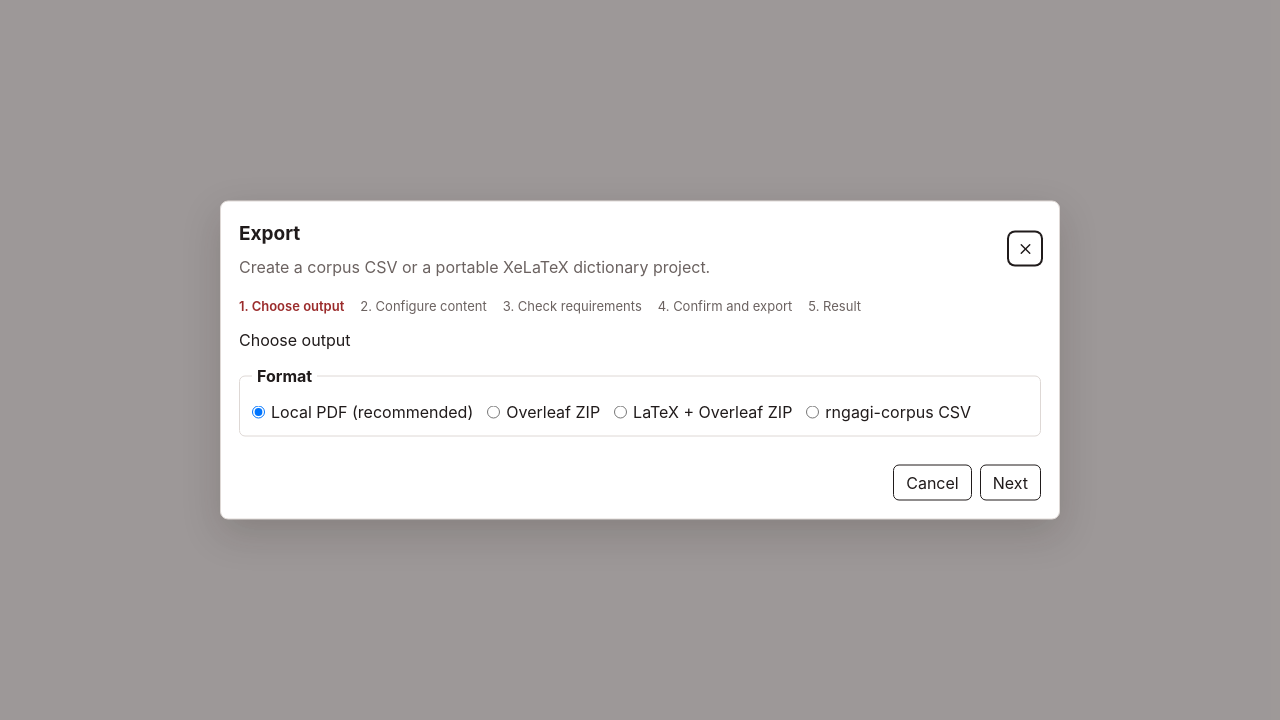
Scenario: ExportDialog › forces per-sense semantic domains off while semantic-domain grouping is active
Step 1. Click the radio button labelled "LaTeX" → (621, 412), box top-left (614, 405), bottom-right (627, 418)
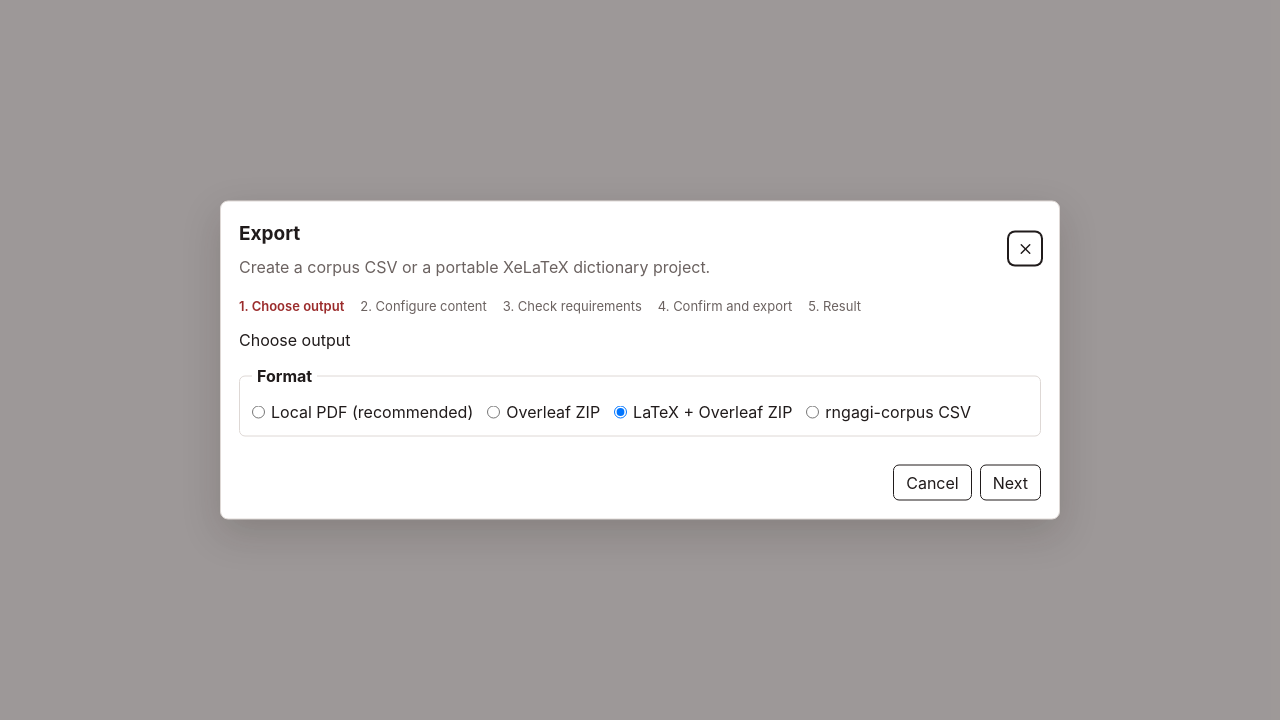
Step 2. Click the button "Next" → (1010, 482), box top-left (980, 464), bottom-right (1041, 500)
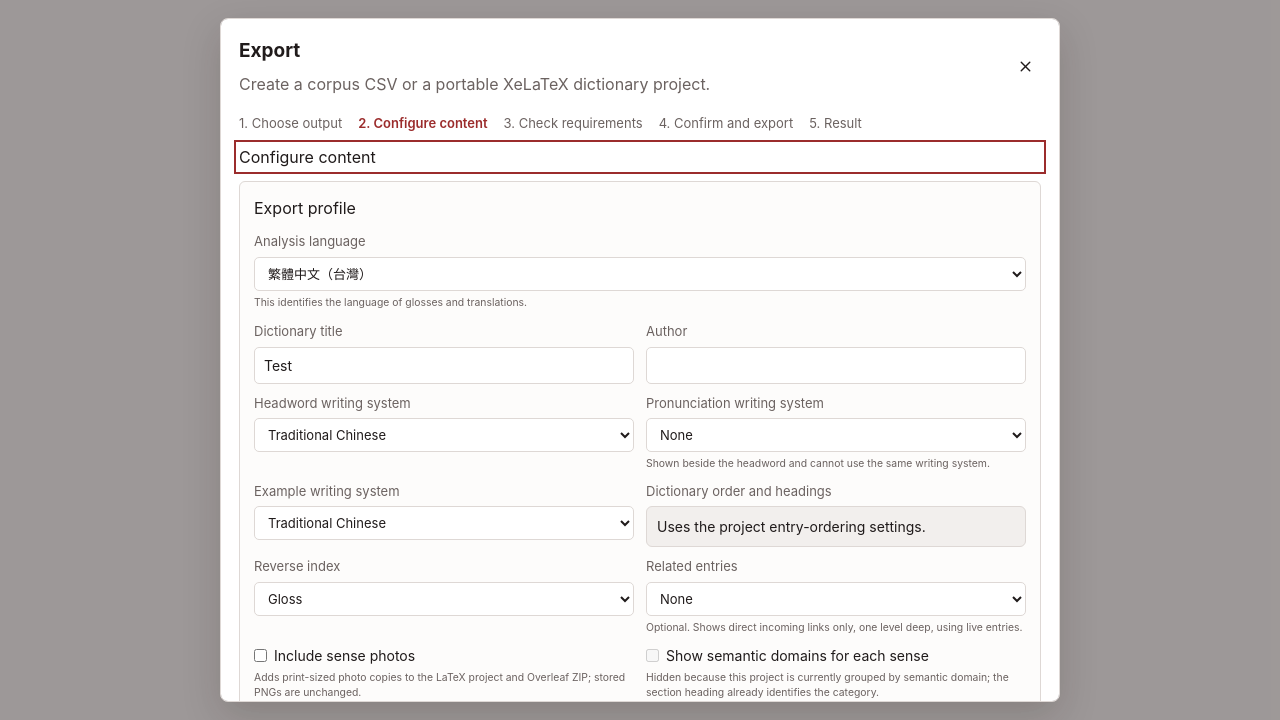
Expected: the checkbox labelled "Show semantic domains for each sense" is not checked, top-left (646, 649), bottom-right (659, 662)
Expected: the checkbox labelled "Show semantic domains for each sense" is disabled, top-left (646, 649), bottom-right (659, 662)
Expected: the text "section heading already identifies the category" is shown, top-left (646, 671), bottom-right (1009, 699)
